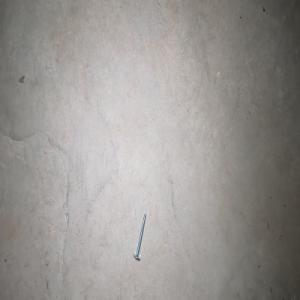Bolt: (133, 211, 146, 260)
